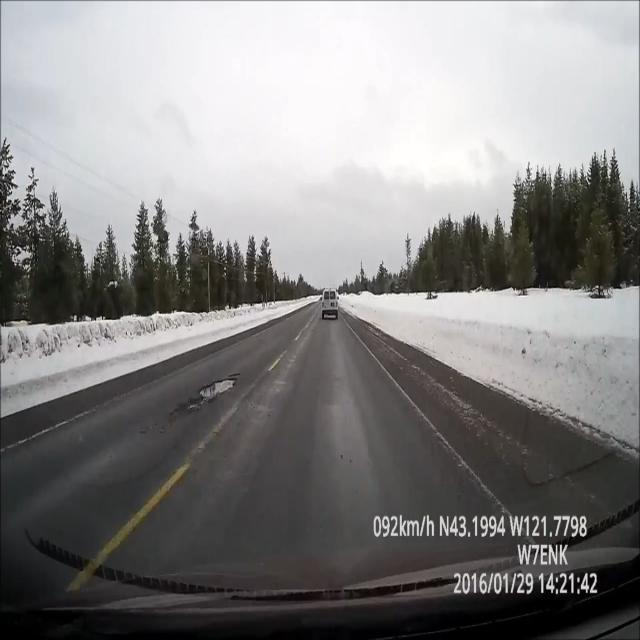Buraco: (182, 378, 239, 412), (225, 372, 242, 378)
